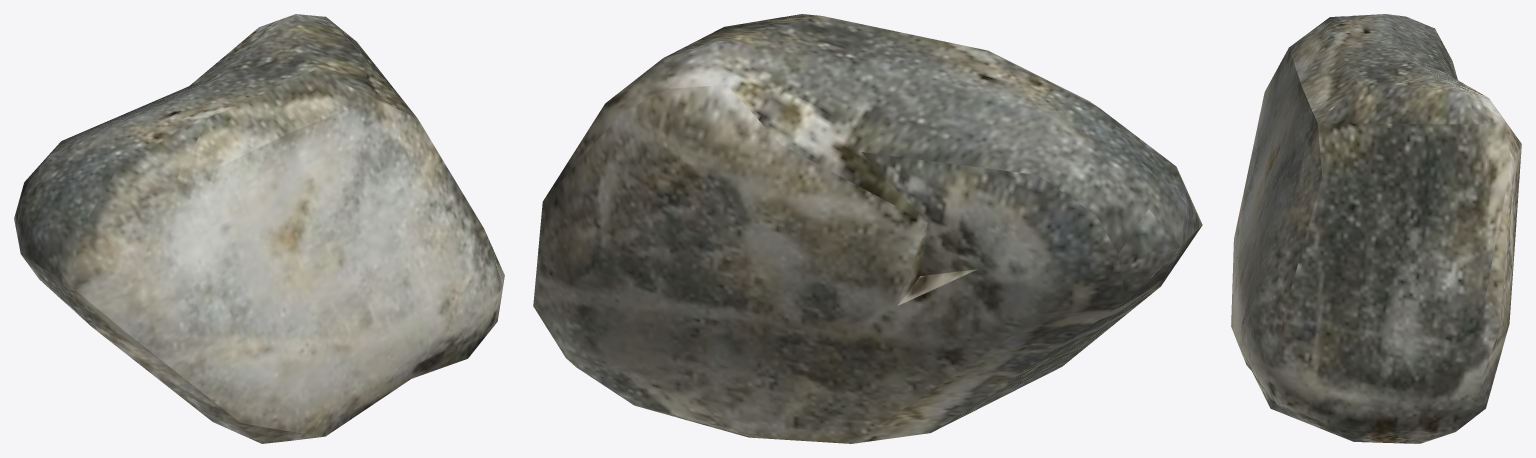
Rendered from rock.glb.
3 views of the same model, side by side, from view 1: azimuth 30°, elevation 25°; view 2: azimuth 150°, elevation 25°; view 3: azimuth 270°, elevation 25° (orthographic). The views are drawn at different scales.
Parts seen in each view (by area): view 1: rock006_lod4; view 2: rock006_lod4; view 3: rock006_lod4.
Part boxes in pixels (x1=…): rock006_lod4: x1=14, y1=14, x2=504, y2=443; rock006_lod4: x1=533, y1=14, x2=1202, y2=443; rock006_lod4: x1=1231, y1=14, x2=1521, y2=443.
Bounding box in the file's own units: 1 × 0.6946 × 0.543.
Materials: 1 (1 with a texture image).
